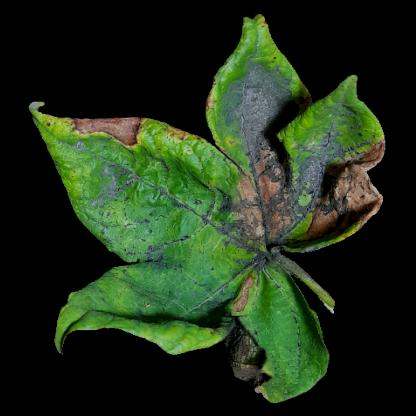curl_stage1: (49, 117, 85, 191), (138, 122, 199, 156), (150, 322, 208, 350), (60, 304, 117, 331)
sooty: (231, 86, 339, 224), (81, 158, 181, 258), (289, 125, 365, 209), (215, 221, 277, 314), (265, 318, 321, 384), (133, 252, 192, 314), (229, 329, 266, 377)
